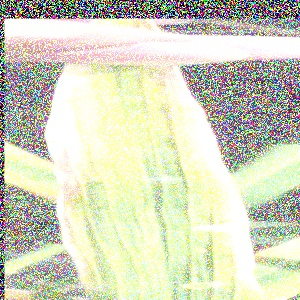Leaf_Blast: (46, 66, 231, 300)
